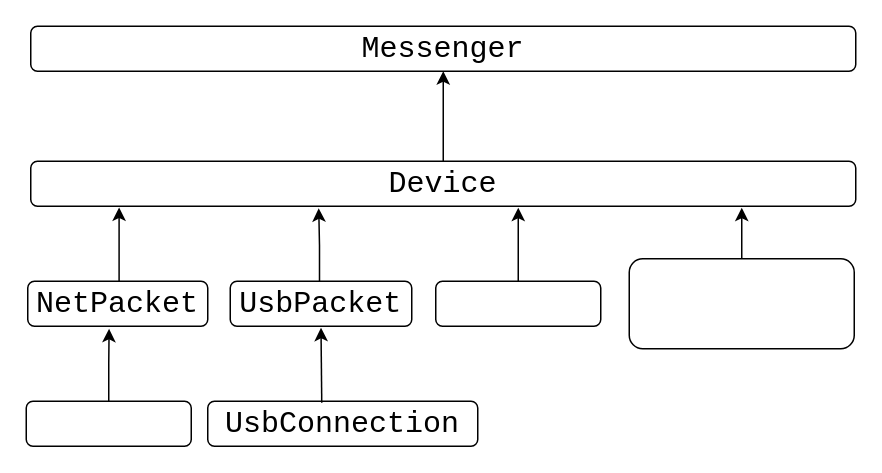
Some shapes in this 882 by 473 pixel diagram are drawn without their labels. Here are the shapes that lost their labels. From the top down, the centre of each, then its label:
At point 517,303: "Keys".
At point 741,303: "Internet Connection".
At point 108,423: "Network".
